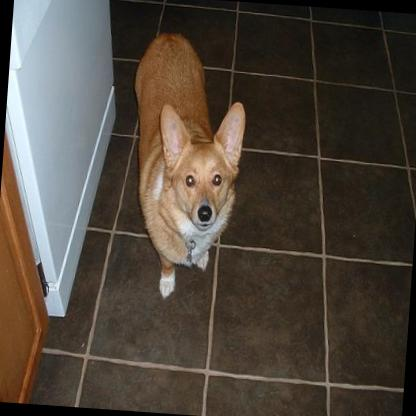Pembroke: (121, 32, 252, 302)
